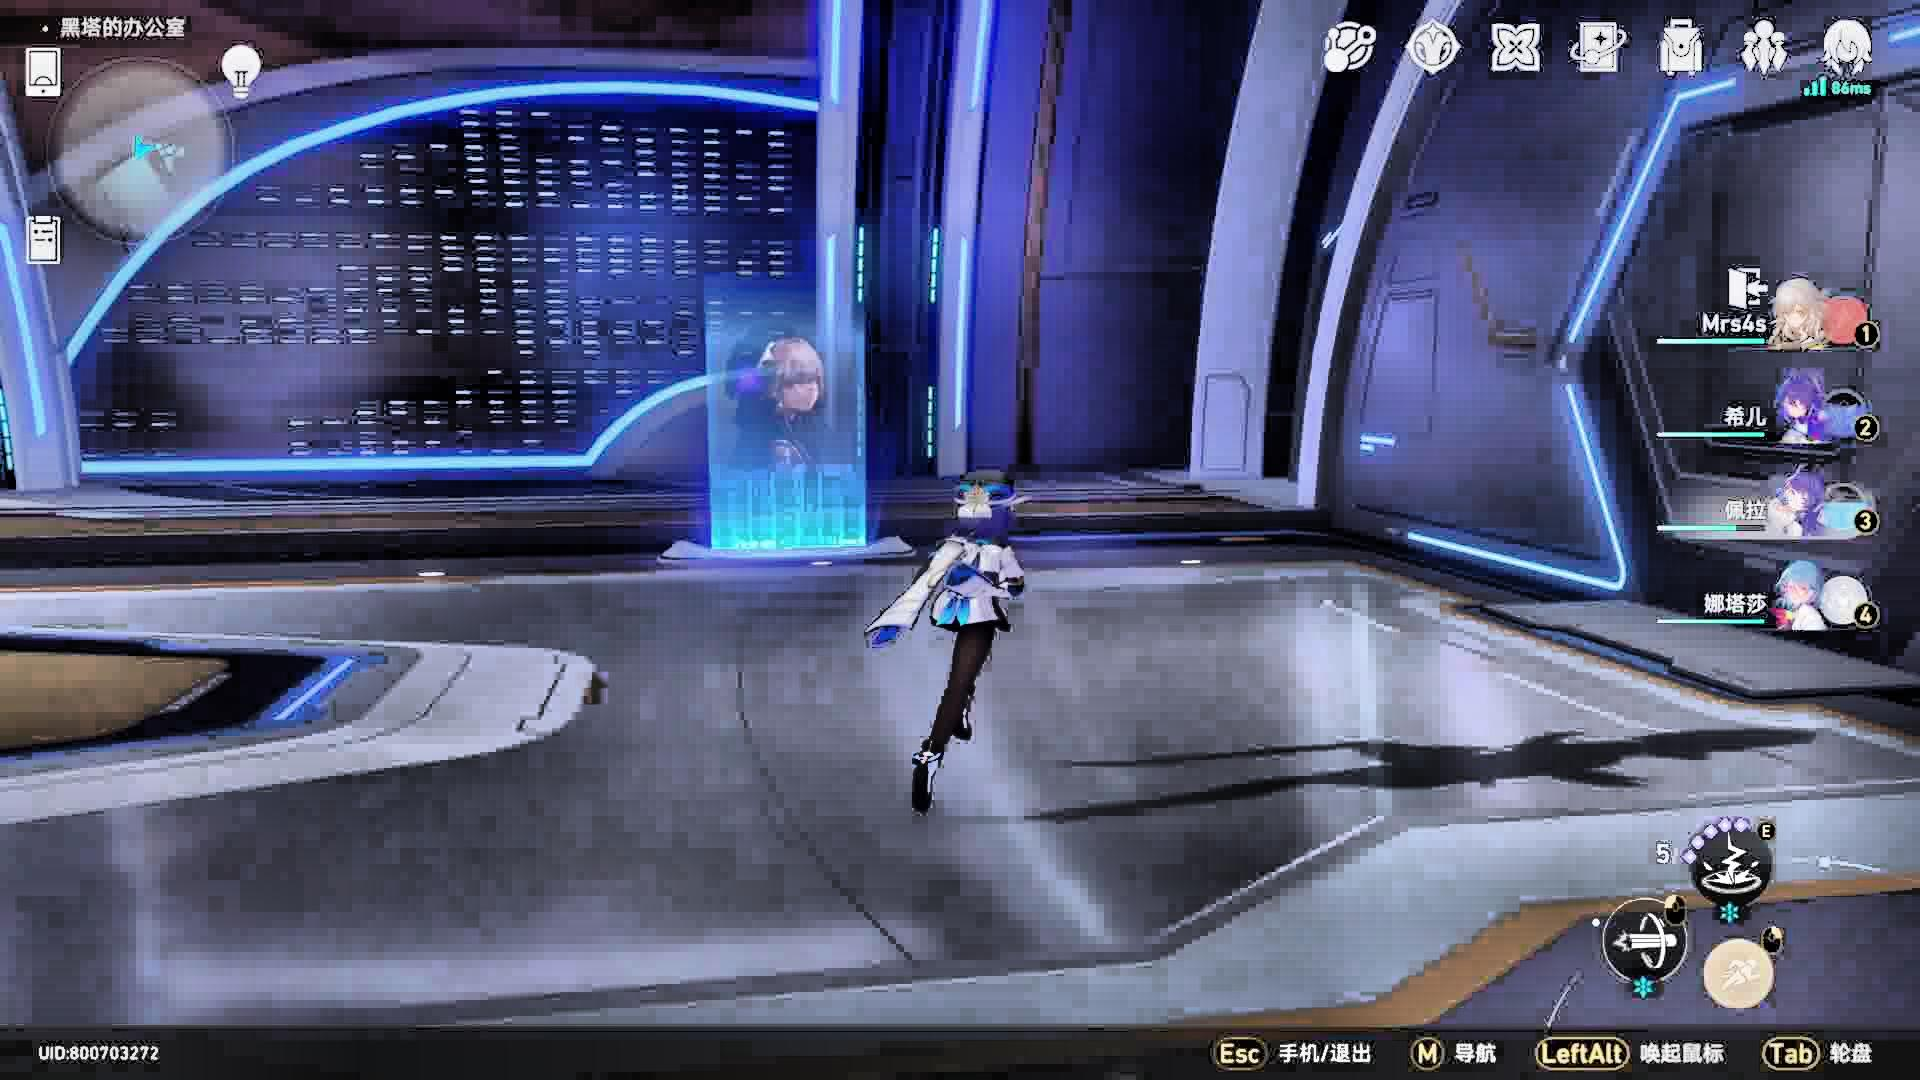Self: (866, 465, 1029, 819)
